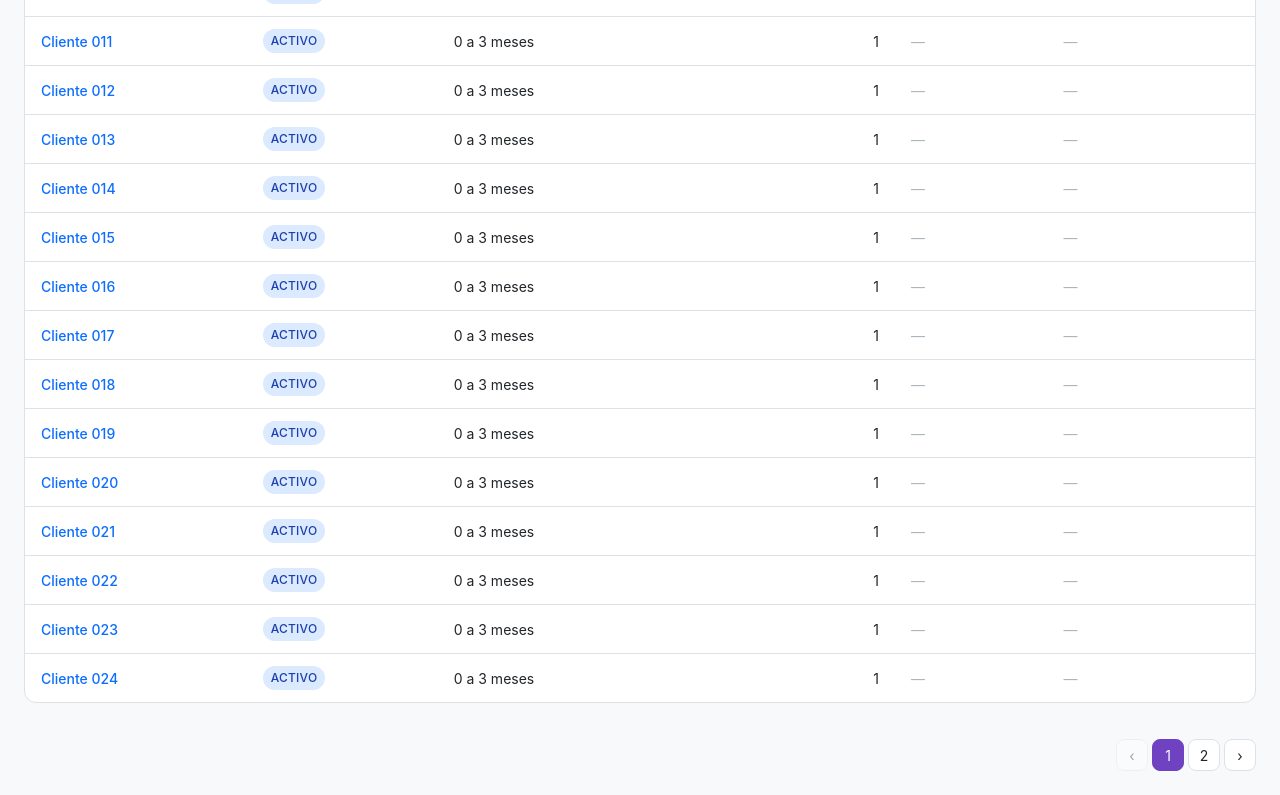
MisClientesPage › navigating to page 2 shows the remaining rows
(page scrolled)
Click the button "2". click: x=1204, y=755
box: [1188,739,1220,771]
(page scrolled)
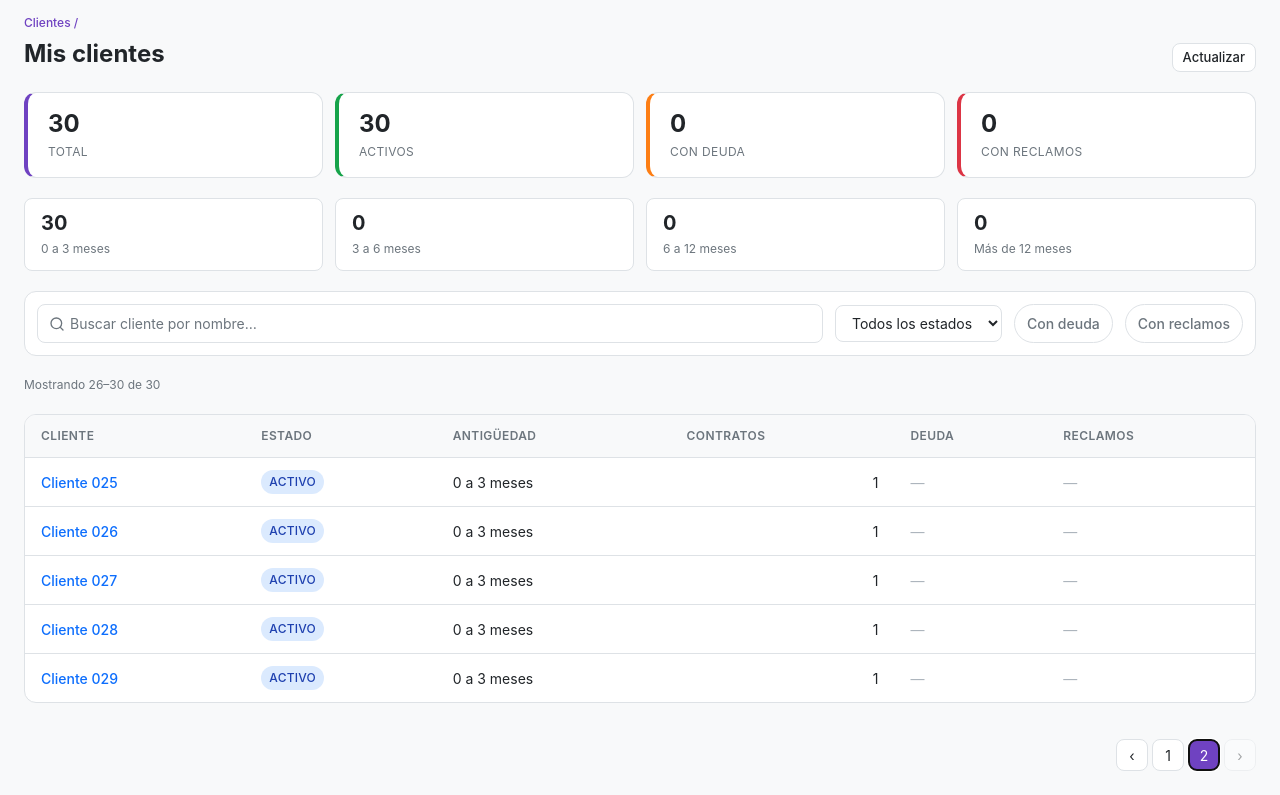
Expected: the link "Cliente 029" is shown, [41,670,118,686]
Expected: the text "Mostrando 26–30 de 30" is shown, [24,377,160,392]
